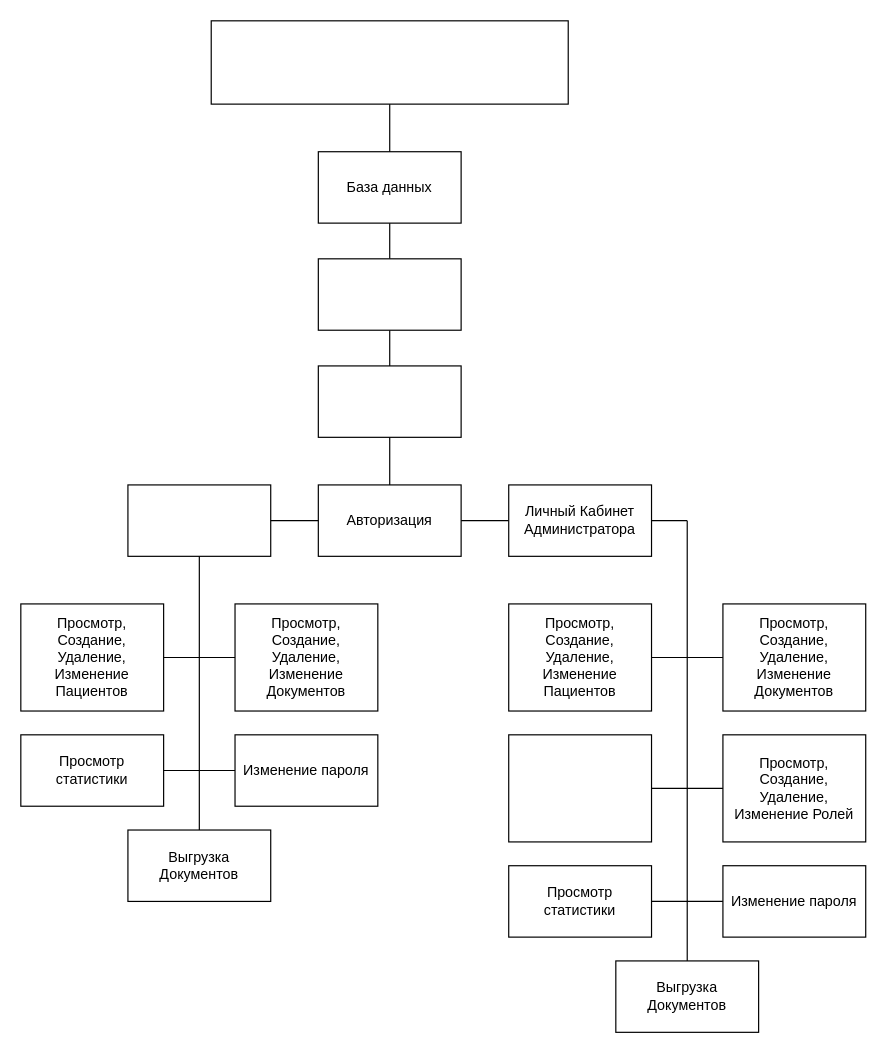
The diagram is 887 pixels wide and 1053 high, and some of its shapes have lost their labels. Each missing label, with the centre of its shape:
Backend сервис: (389,294)
Frontend: (389,401)
Личный Кабинет Педагога: (199,520)
Программный Комплекс "Природа Разума": (389,62)
Просмотр, Создание, Удаление, Изменение Пользователей: (580,788)
